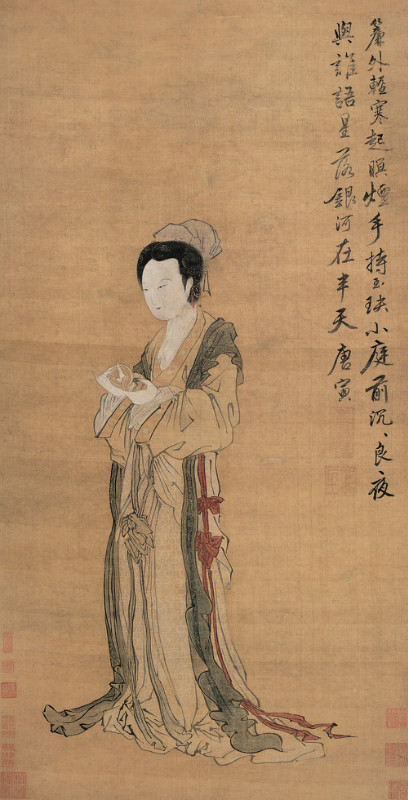decoration: (113, 362, 133, 387)
woman: (112, 454, 225, 745), (146, 227, 214, 440), (234, 706, 351, 755), (215, 325, 239, 443), (47, 698, 125, 732), (109, 405, 139, 450)
